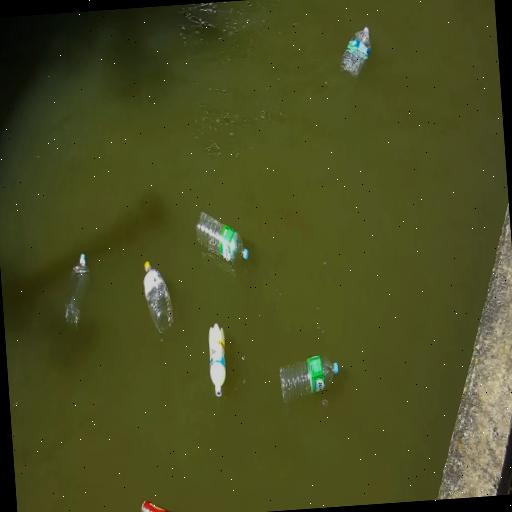plastic: (280, 356, 338, 401), (197, 213, 248, 263), (144, 262, 173, 334), (338, 26, 373, 78), (65, 254, 89, 326), (209, 323, 225, 397), (139, 496, 180, 512)
